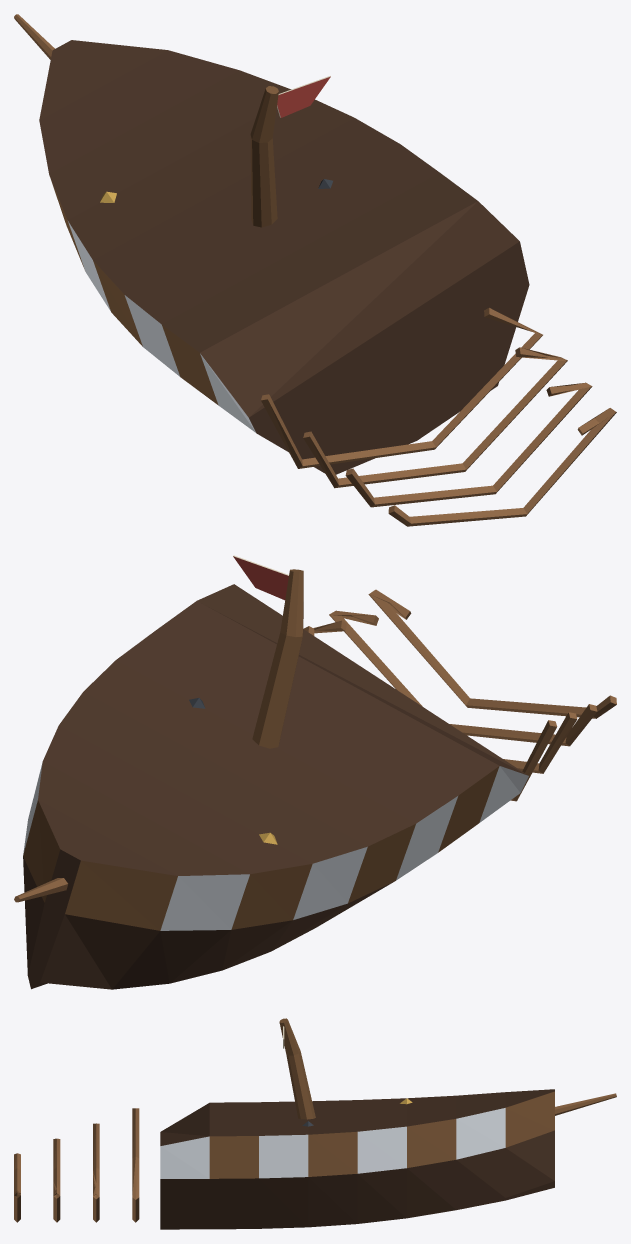
File: SkyWreck.obj
The picture shows the model from 3 angles, top to bottom: view 1: azimuth 30°, elevation 25°; view 2: azimuth 150°, elevation 25°; view 3: azimuth 270°, elevation 25°; orthographic projection. The views are drawn at different scales.
Size of the model in its own units: 8.86 by 9 by 24.46.
